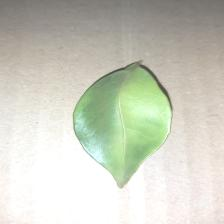greening: (117, 82, 171, 146)
